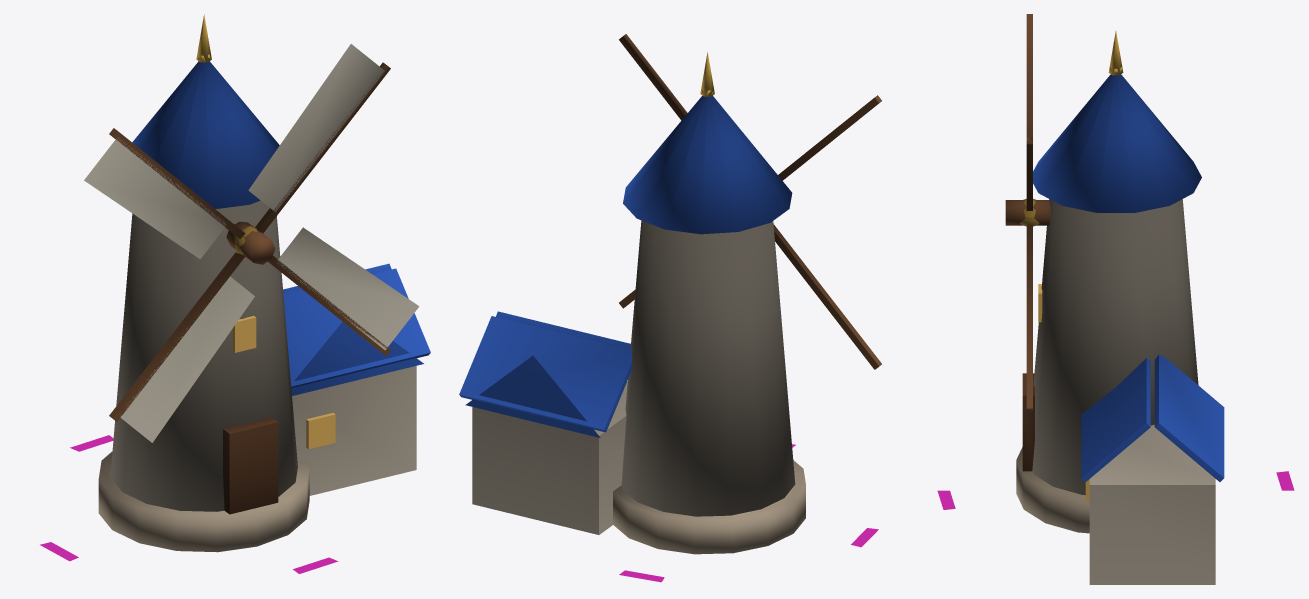
Rendered from moara.glb.
3 views of the same model, side by side, from view 1: azimuth 30°, elevation 25°; view 2: azimuth 150°, elevation 25°; view 3: azimuth 270°, elevation 25° (orthographic). The views are drawn at different scales.
Visible parts, largest first — view 1: Corp, Panze, Lumina, Marcaj_PLACEHOLDER; view 2: Corp, Panze; view 3: Corp, Panze, Marcaj_PLACEHOLDER.
Boxes of the visible parts, x1=… form: Corp: x1=98, y1=14, x2=430, y2=552; Panze: x1=84, y1=44, x2=419, y2=442; Lumina: x1=232, y1=316, x2=335, y2=449; Marcaj_PLACEHOLDER: x1=40, y1=435, x2=338, y2=573; Corp: x1=459, y1=52, x2=805, y2=554; Panze: x1=619, y1=34, x2=881, y2=369; Corp: x1=1005, y1=31, x2=1224, y2=584; Panze: x1=1020, y1=14, x2=1039, y2=411; Marcaj_PLACEHOLDER: x1=937, y1=471, x2=1294, y2=509.
Size of the model in its own units: 3.88 by 4.87 by 3.4.
